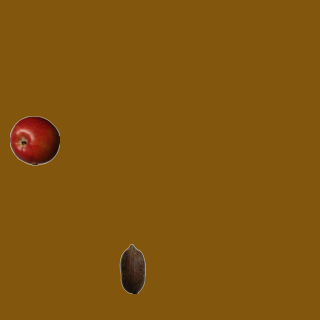Apple Braeburn: (9, 115, 59, 165)
Nut Pecan: (107, 243, 157, 293)
